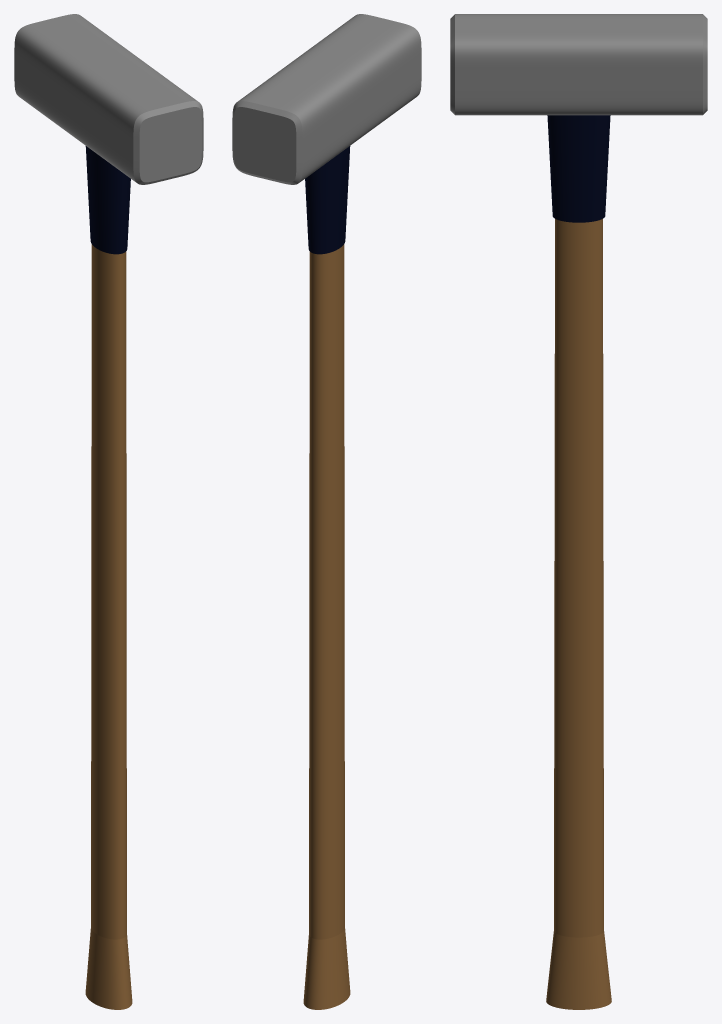
The picture shows the model from 3 angles, left to right: view 1: azimuth 30°, elevation 25°; view 2: azimuth 150°, elevation 25°; view 3: azimuth 270°, elevation 25°; orthographic projection. The views are drawn at different scales.
Parts seen in each view (by area): view 1: sledgehammer; view 2: sledgehammer; view 3: sledgehammer.
Boxes of the visible parts, x1,y1,x2,y2 form: sledgehammer: (14,14,203,1009); sledgehammer: (232,14,421,1009); sledgehammer: (450,14,707,1009).
Bounding box in the file's own units: 0.0707 × 0.9 × 0.2155.
